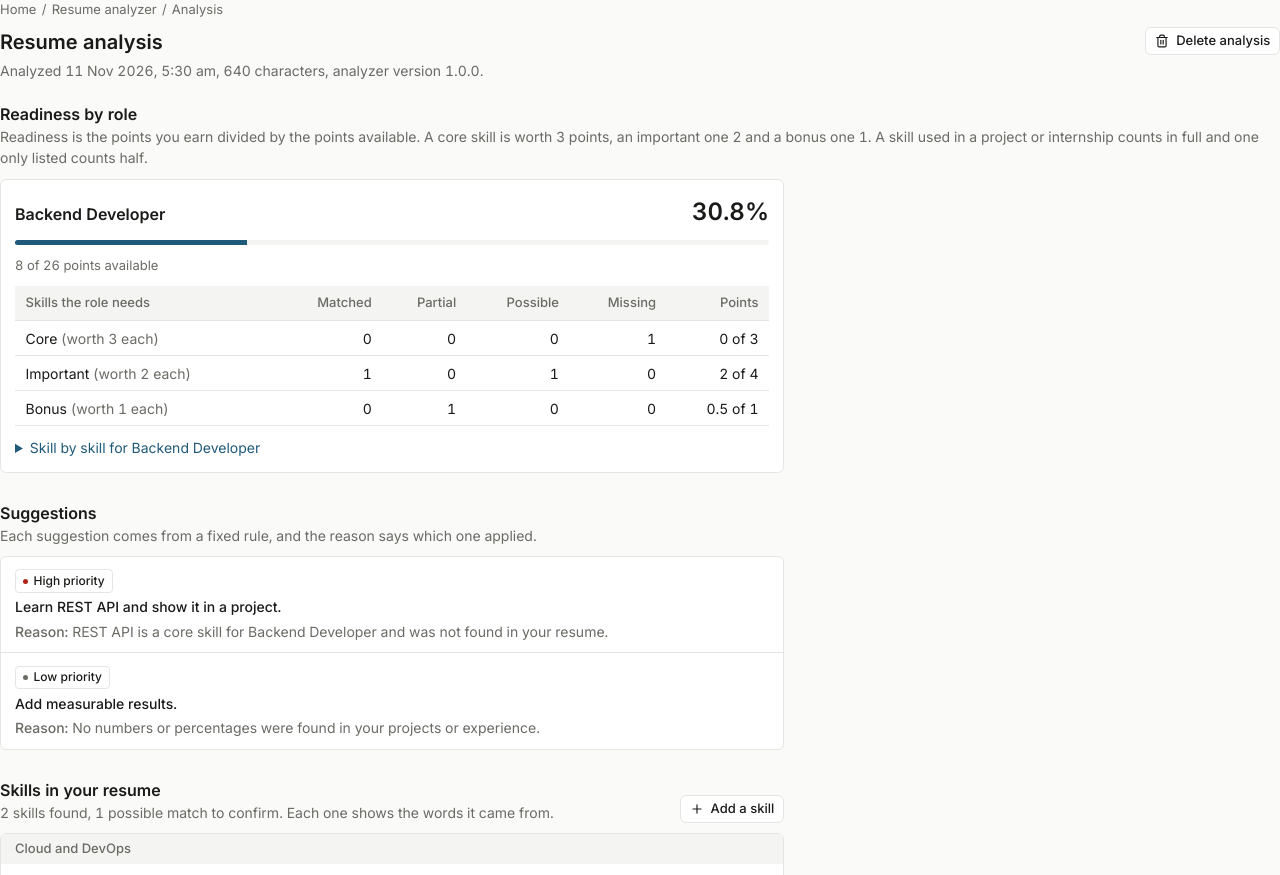
it: AnalysisPage delete › stays open and shows the error when the delete fails
Step 1. Click the button "Delete analysis" → click(1213, 40), box [1145,26,1279,54]
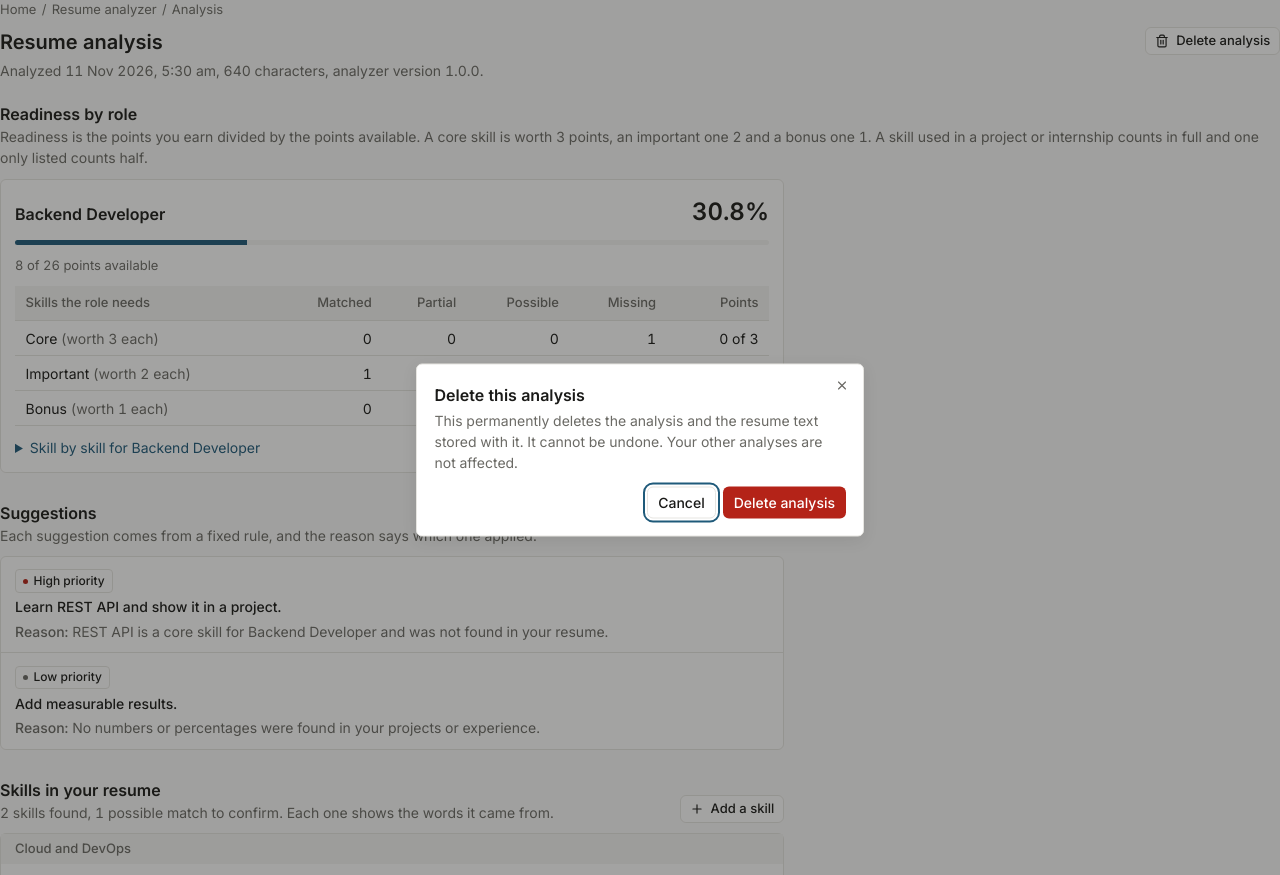
Step 2. Click the button "Delete analysis" → click(784, 502), box [723,486,846,518]
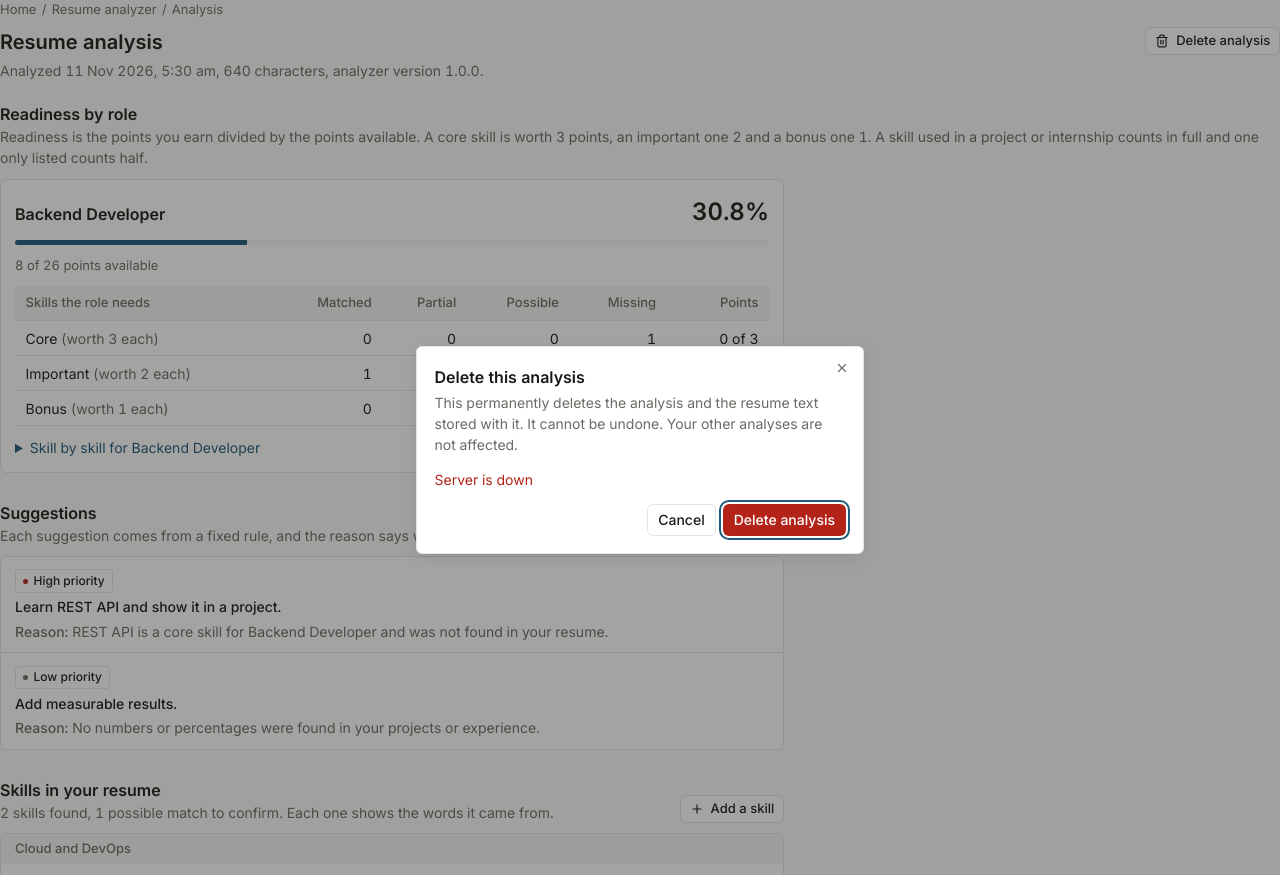
Expected: the message "Server is down" is shown, [434,471,533,488]
